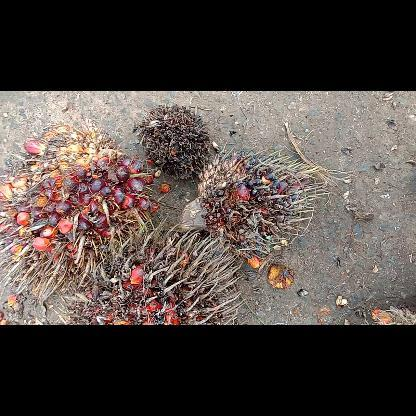TBS abnormal: (176, 147, 333, 269), (134, 101, 214, 180)
TBS masak: (0, 122, 161, 298)
Terlalu masak: (63, 218, 248, 324)
